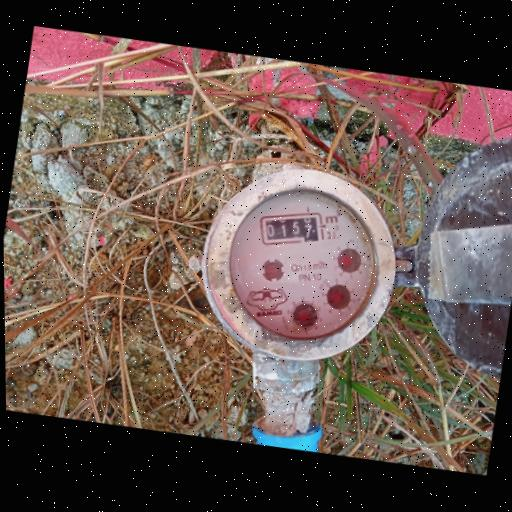0: (261, 217, 281, 242)
1: (274, 216, 294, 240)
5: (287, 215, 306, 239)
7: (297, 213, 322, 244)
border_water_meter_number: (254, 201, 328, 255)
